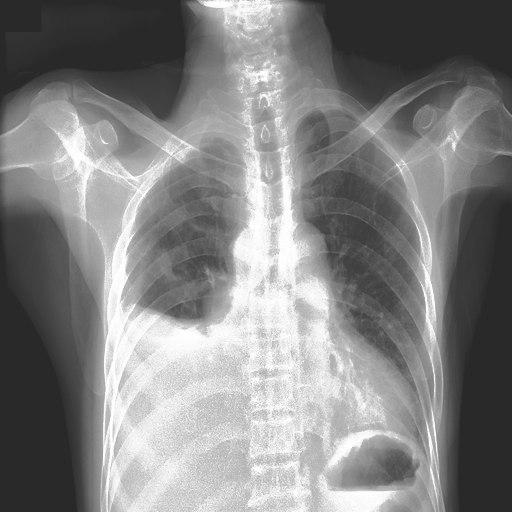Aortic enlargement: (153, 246, 177, 281)
Calcification: (164, 129, 218, 171), (296, 106, 361, 130)
Consolidation: (277, 222, 331, 297)
Nodule/Mass: (212, 322, 417, 440)
Other lesion: (156, 247, 180, 286)
Pleural effusion: (101, 298, 254, 395)
Pleural thickening: (154, 250, 177, 282)
Pulmonary fibrosis: (201, 285, 238, 330)
